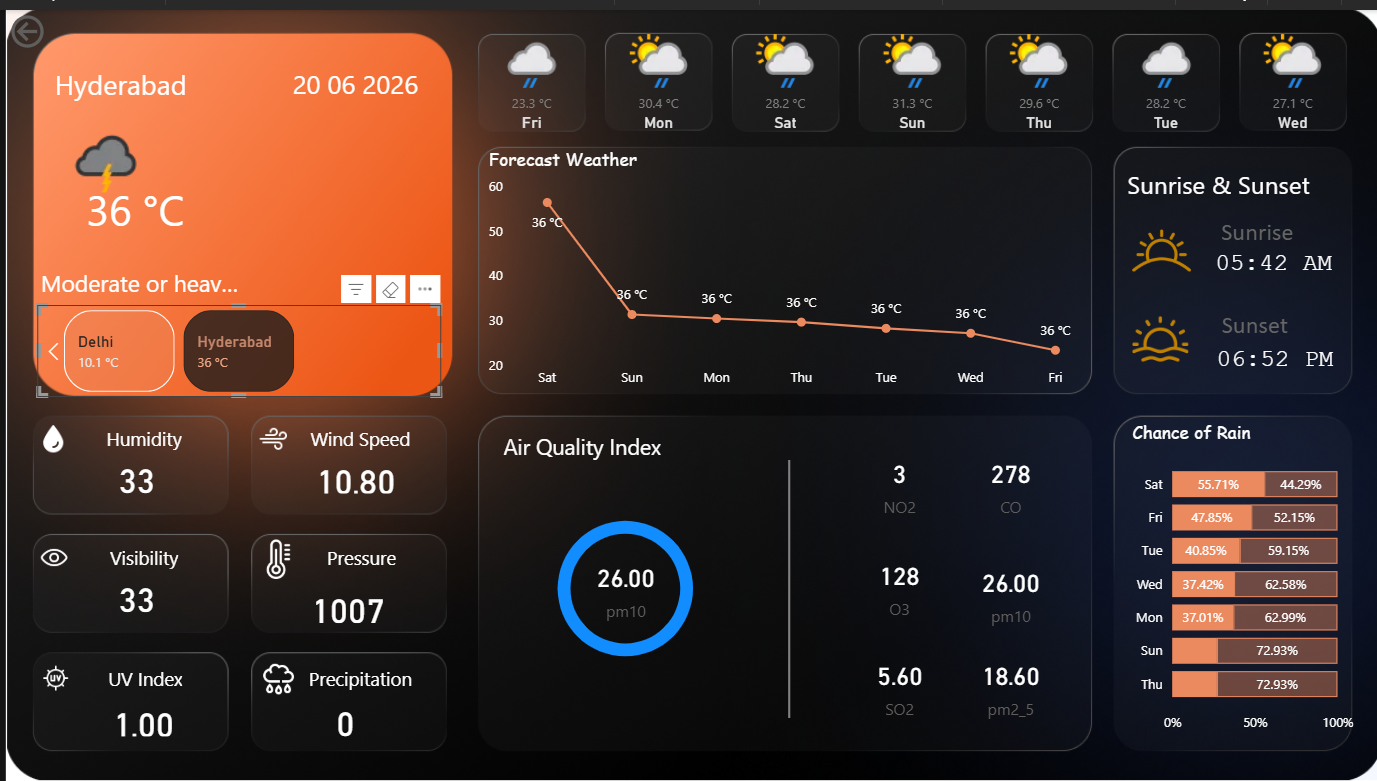

The page's visual inventory and layout, read from the dashboard file:
{"tool":"powerbi","page":{"name":"Page 1","canvas":[1280,720],"ordinal":0},"visuals":[{"type":"advancedSlicerVisual","fields":{"Values":["Location.location.name"]},"box":[29.1,274.4,375.6,86],"z":0},{"type":"shape","box":[36,145.3,168.6,80.2],"z":1000},{"type":"shape","box":[25.6,233.7,191.9,40.7],"z":2000},{"type":"shape","box":[45.3,44.2,203.5,48.8],"z":3000},{"type":"shape","box":[248.8,44.2,152.3,47.7],"z":4000},{"type":"cardVisual","fields":{"Data":["Min(current.current.condition.icon)"]},"box":[36,79.1,114,117.4],"z":5000},{"type":"image","box":[25.6,360.5,37.2,76.7],"z":6000},{"type":"image","box":[230.2,360.5,37.2,76.7],"z":7000},{"type":"image","box":[25.6,470.9,38.4,76.7],"z":8000},{"type":"image","box":[230.2,483.7,46.5,54.7],"z":9000},{"type":"image","box":[29.1,577.9,34.9,87.2],"z":10000},{"type":"image","box":[225.6,600,55.8,45.3],"z":11000},{"type":"shape","box":[52.3,381.4,152.3,33.7],"z":12000},{"type":"shape","box":[253.5,381.4,152.3,33.7],"z":13000},{"type":"shape","box":[52.3,491.9,152.3,33.7],"z":14000},{"type":"shape","box":[53.5,604.7,152.3,33.7],"z":15000},{"type":"shape","box":[254.7,491.9,152.3,33.7],"z":16000},{"type":"shape","box":[253.5,604.7,152.3,33.7],"z":17000},{"type":"card","fields":{"Values":["Sum(current.current.humidity)"]},"box":[80.2,418.6,83.7,36],"z":18000},{"type":"card","fields":{"Values":["Sum(current.current.wind_kph)"]},"box":[283.8,418.8,83.8,36.2],"z":19000},{"type":"card","fields":{"Values":["Sum(current.current.humidity)"]},"box":[80.2,529.1,83.7,36],"z":20000},{"type":"card","fields":{"Values":["Sum(current.current.pressure_mb)"]},"box":[276.7,538,83.1,36.8],"z":21000},{"type":"card","fields":{"Values":["Sum(current.current.uv)"]},"box":[85.5,644.9,84.3,35.6],"z":22000},{"type":"card","fields":{"Values":["Sum(current.current.precip_in)"]},"box":[276.7,643.7,78.4,36.8],"z":23000},{"type":"advancedSlicerVisual","fields":{"Values":["Forecast_day.DAy_Name"]},"box":[428.6,7.1,830,142.9],"z":23001},{"type":"lineChart","title":"Forecast Weather","fields":{"Y":["Sum(Forecast_day.forecast.forecastday.day.avgtemp_c)"],"Category":["Forecast_day.DAy_Name"]},"box":[443.8,127.5,568.8,232.5],"z":23002},{"type":"shape","box":[1042.9,137.1,202.9,48.6],"z":23003},{"type":"shape","box":[1112.9,207.1,132.9,58.6],"z":23004},{"type":"shape","box":[1114.3,291.4,132.9,67.1],"z":23005},{"type":"shape","box":[1097.1,187.1,132.9,38.6],"z":23006},{"type":"shape","box":[1095.7,261.4,132.9,62.9],"z":23007},{"type":"image","box":[1042.9,274.3,61.4,62.9],"z":23008},{"type":"image","box":[1031.4,182.9,87.1,82.9],"z":23009},{"type":"hundredPercentStackedBarChart","title":"Chance of Rain","fields":{"Category":["Forecast_day.DAy_Name"],"Y":["Sum(Forecast_day.forecast.forecastday.day.daily_chance_of_rain)","_Measure.Left_Value_rain"]},"box":[1042.9,381.4,215.7,300],"z":23010},{"type":"card","fields":{"Values":["Sum(current.current.air_quality.co)"]},"box":[892.5,406.2,83.8,71.2],"z":23011},{"type":"shape","box":[462.5,381.2,203.8,48.8],"z":23012},{"type":"card","fields":{"Values":["Sum(current.current.air_quality.pm10)"]},"box":[535,502.5,83.8,71.2],"z":23013},{"type":"card","fields":{"Values":["Sum(current.current.air_quality.o3)"]},"box":[790,501.2,83.8,71.2],"z":23014},{"type":"card","fields":{"Values":["Sum(current.current.air_quality.no2)"]},"box":[790,406.2,83.8,71.2],"z":23015},{"type":"card","fields":{"Values":["Sum(current.current.air_quality.pm2_5)"]},"box":[892.5,593.8,83.8,71.2],"z":23016},{"type":"card","fields":{"Values":["Sum(current.current.air_quality.so2)"]},"box":[790,593.8,83.8,71.2],"z":23017},{"type":"shape","box":[652.5,418.8,152.5,240],"z":23018},{"type":"actionButton","box":[0,0,100,40],"z":23020},{"type":"card","fields":{"Values":["Sum(current.current.air_quality.pm10)"]},"box":[892.5,507.5,83.8,71.2],"z":23021},{"type":"donutChart","fields":{"Y":["Sum(current.current.air_quality.pm10)"]},"box":[475,455,203.8,167.5],"z":23022}]}

Visuals, with their boxes in screenshot pixels (x1, y1, x2, y2), scaled from the page's 1280x720 canvas onto the 1377x781 screenshot:
advancedSlicerVisual - Location.location.name: x1=31 y1=298 x2=435 y2=391
shape: x1=39 y1=158 x2=220 y2=245
shape: x1=28 y1=253 x2=234 y2=298
shape: x1=49 y1=48 x2=268 y2=101
shape: x1=268 y1=48 x2=431 y2=100
cardVisual - Min(current.current.condition.icon): x1=39 y1=86 x2=161 y2=213
image: x1=28 y1=391 x2=68 y2=474
image: x1=248 y1=391 x2=288 y2=474
image: x1=28 y1=511 x2=69 y2=594
image: x1=248 y1=525 x2=298 y2=584
image: x1=31 y1=627 x2=69 y2=721
image: x1=243 y1=651 x2=303 y2=700
shape: x1=56 y1=414 x2=220 y2=450
shape: x1=273 y1=414 x2=437 y2=450
shape: x1=56 y1=534 x2=220 y2=570
shape: x1=58 y1=656 x2=221 y2=692
shape: x1=274 y1=534 x2=438 y2=570
shape: x1=273 y1=656 x2=437 y2=692
card - Sum(current.current.humidity): x1=86 y1=454 x2=176 y2=493
card - Sum(current.current.wind_kph): x1=305 y1=454 x2=395 y2=494
card - Sum(current.current.humidity): x1=86 y1=574 x2=176 y2=613
card - Sum(current.current.pressure_mb): x1=298 y1=584 x2=387 y2=623
card - Sum(current.current.uv): x1=92 y1=700 x2=183 y2=738
card - Sum(current.current.precip_in): x1=298 y1=698 x2=382 y2=738
advancedSlicerVisual - Forecast_day.DAy_Name: x1=461 y1=8 x2=1354 y2=163
"Forecast Weather" lineChart: x1=477 y1=138 x2=1089 y2=390
shape: x1=1122 y1=149 x2=1340 y2=201
shape: x1=1197 y1=225 x2=1340 y2=288
shape: x1=1199 y1=316 x2=1342 y2=389
shape: x1=1180 y1=203 x2=1323 y2=245
shape: x1=1179 y1=284 x2=1322 y2=352
image: x1=1122 y1=298 x2=1188 y2=366
image: x1=1110 y1=198 x2=1203 y2=288
"Chance of Rain" hundredPercentStackedBarChart: x1=1122 y1=414 x2=1354 y2=739
card - Sum(current.current.air_quality.co): x1=960 y1=441 x2=1050 y2=518
shape: x1=498 y1=413 x2=717 y2=466
card - Sum(current.current.air_quality.pm10): x1=576 y1=545 x2=666 y2=622
card - Sum(current.current.air_quality.o3): x1=850 y1=544 x2=940 y2=621
card - Sum(current.current.air_quality.no2): x1=850 y1=441 x2=940 y2=518
card - Sum(current.current.air_quality.pm2_5): x1=960 y1=644 x2=1050 y2=721
card - Sum(current.current.air_quality.so2): x1=850 y1=644 x2=940 y2=721
shape: x1=702 y1=454 x2=866 y2=715
actionButton: x1=0 y1=0 x2=108 y2=43
card - Sum(current.current.air_quality.pm10): x1=960 y1=550 x2=1050 y2=628
donutChart - Sum(current.current.air_quality.pm10): x1=511 y1=494 x2=730 y2=675
